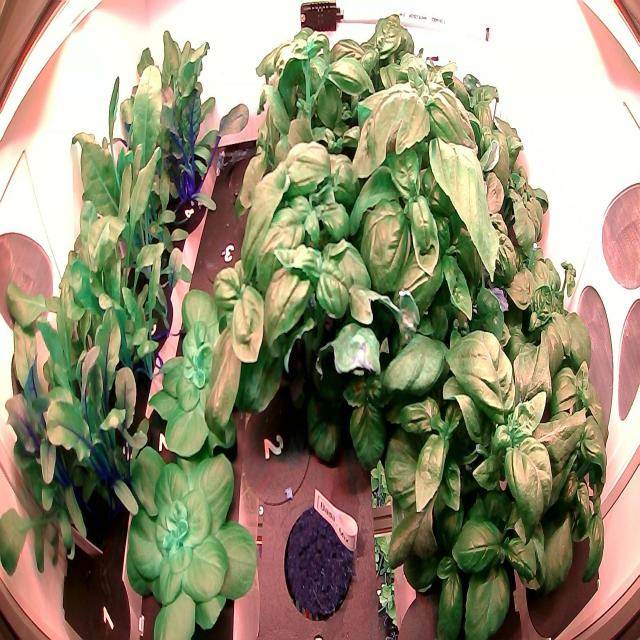empty_pod: (196, 208, 261, 289), (214, 135, 272, 218)
pod: (276, 494, 362, 630)
young: (118, 439, 261, 640), (142, 270, 259, 458)
